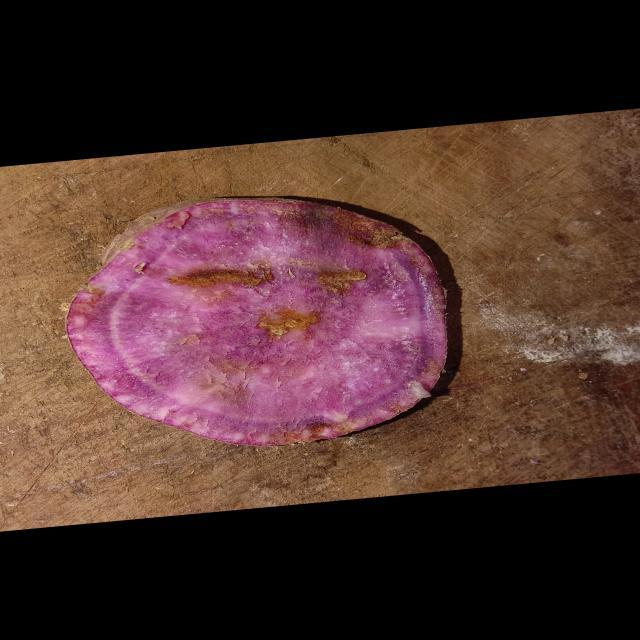Sick Sweet Potato_Tuber Rot: (67, 198, 447, 446)
